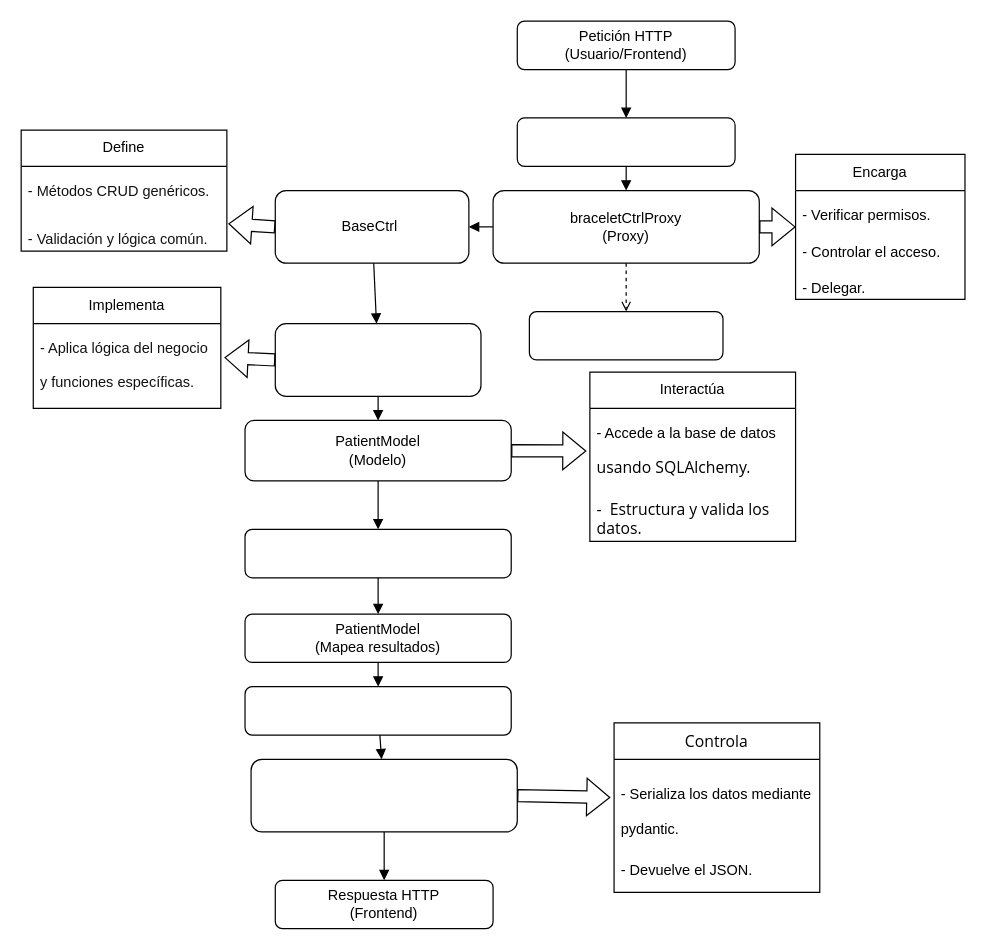
This 986x950 diagram has some shape labels left out. Here are the shapes that lost their labels. From the top down, the centre of each, then its label:
At point 625,141: "FastAPI (Rutas/Endpoints)".
At point 625,335: "PermissionCtrl (Verifica permisos)".
At point 377,359: "PatientCtrl (Controlador de la entidad)".
At point 377,553: "PostgreSQL (Base de datos)".
At point 377,710: "PatientCtrl (Procesa datos)".
At point 383,795: "FastAPI (Vista/Respuesta)".
